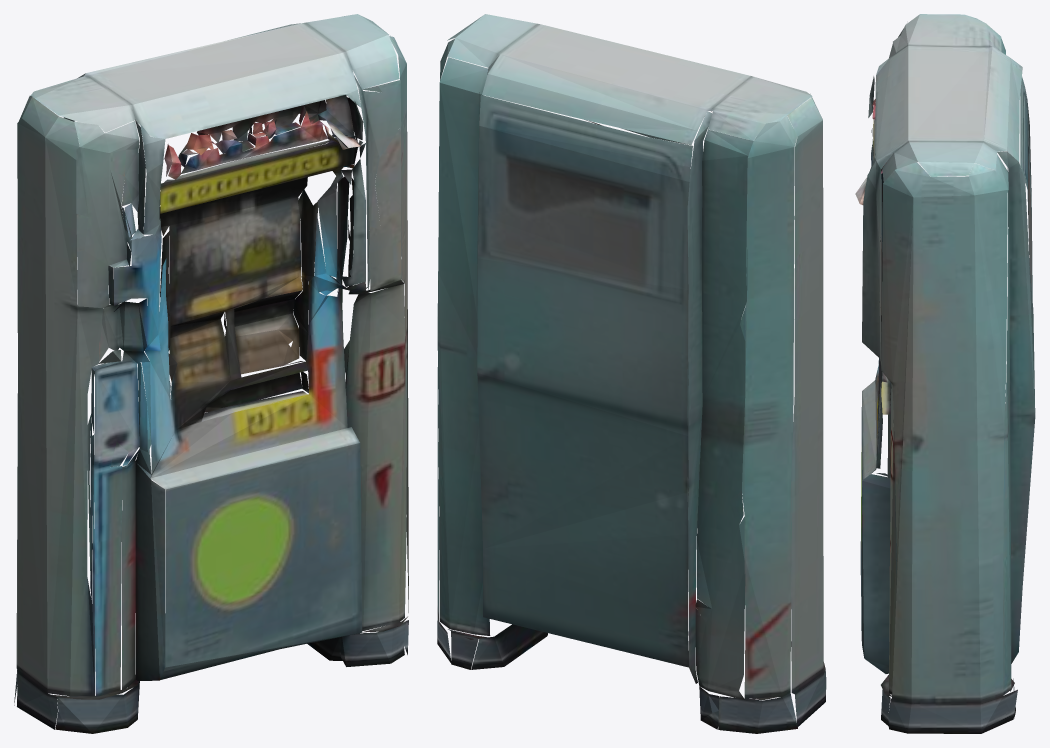
File: vending.glb
The picture shows the model from 3 angles, left to right: view 1: azimuth 30°, elevation 25°; view 2: azimuth 150°, elevation 25°; view 3: azimuth 270°, elevation 25°; orthographic projection. The views are drawn at different scales.
Parts seen in each view (by area): view 1: geometry_0; view 2: geometry_0; view 3: geometry_0.
Part boxes in pixels (bbox=[...]): geometry_0: bbox=[14, 14, 408, 733]; geometry_0: bbox=[437, 14, 826, 733]; geometry_0: bbox=[855, 14, 1035, 733].
Bounding box in the file's own units: 0.6156 × 0.998 × 0.2879.
Materials: 1 (1 with a texture image).
